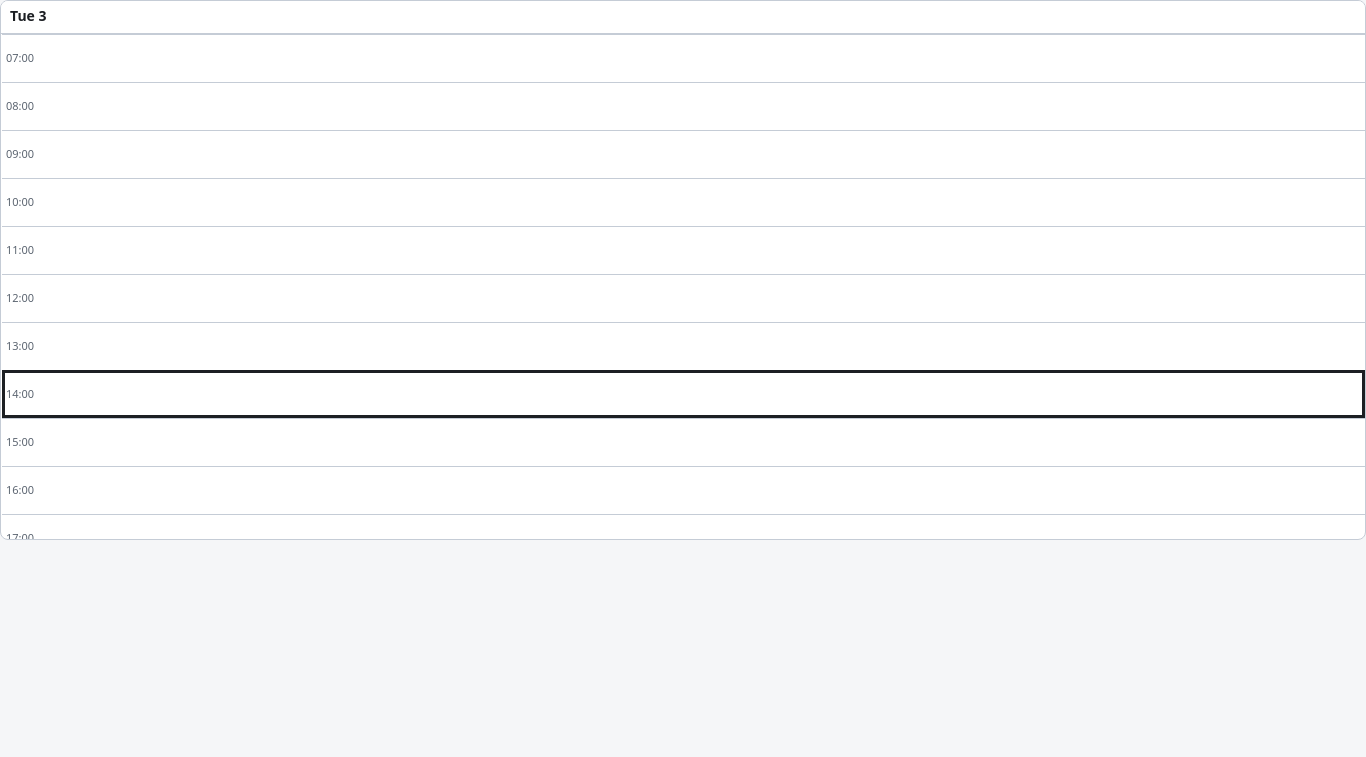
it: Calendar: making an event › closes the form on Cancel and puts focus back on the slot
(page scrolled)
Step 1. Click the button "14:00" → (20,394), box x1=2 y1=370 x2=1365 y2=418
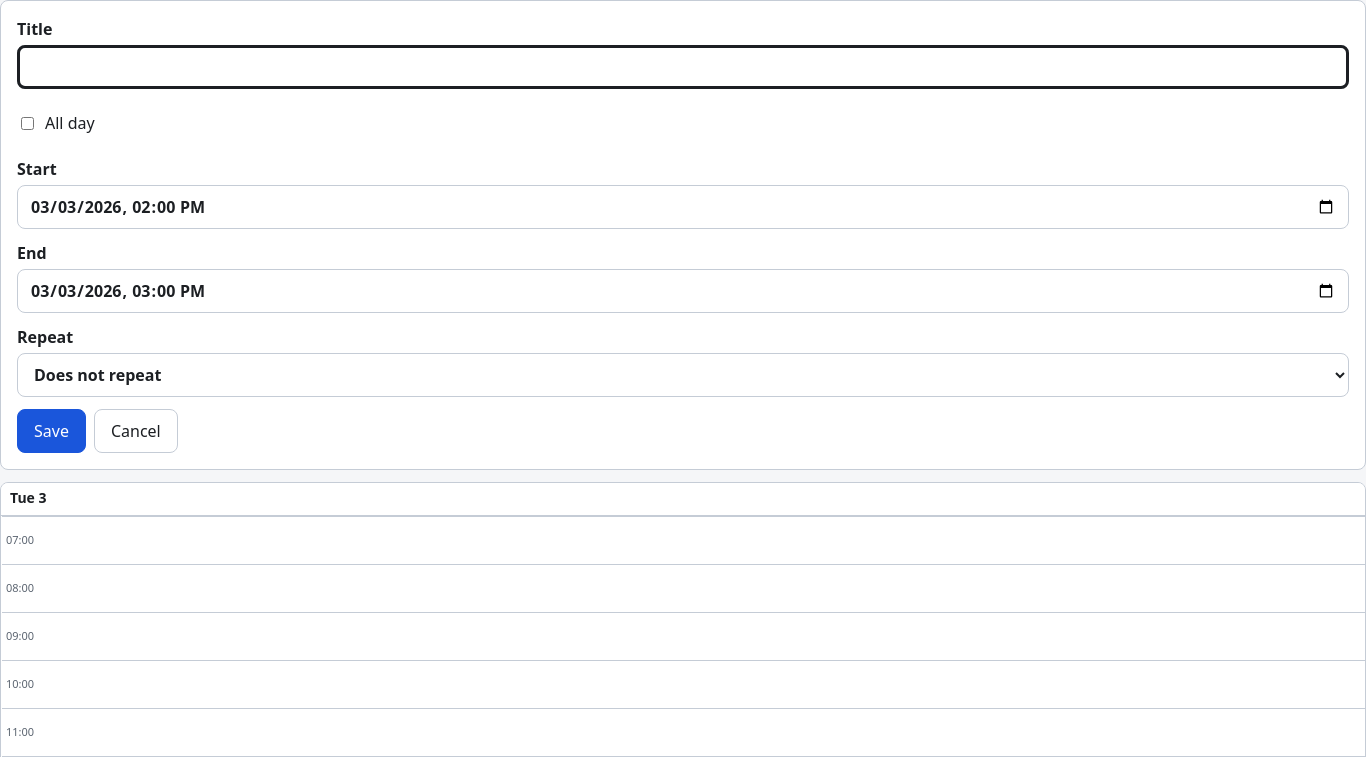
Step 2. Click the button "Cancel" → (136,431), box x1=94 y1=409 x2=178 y2=453
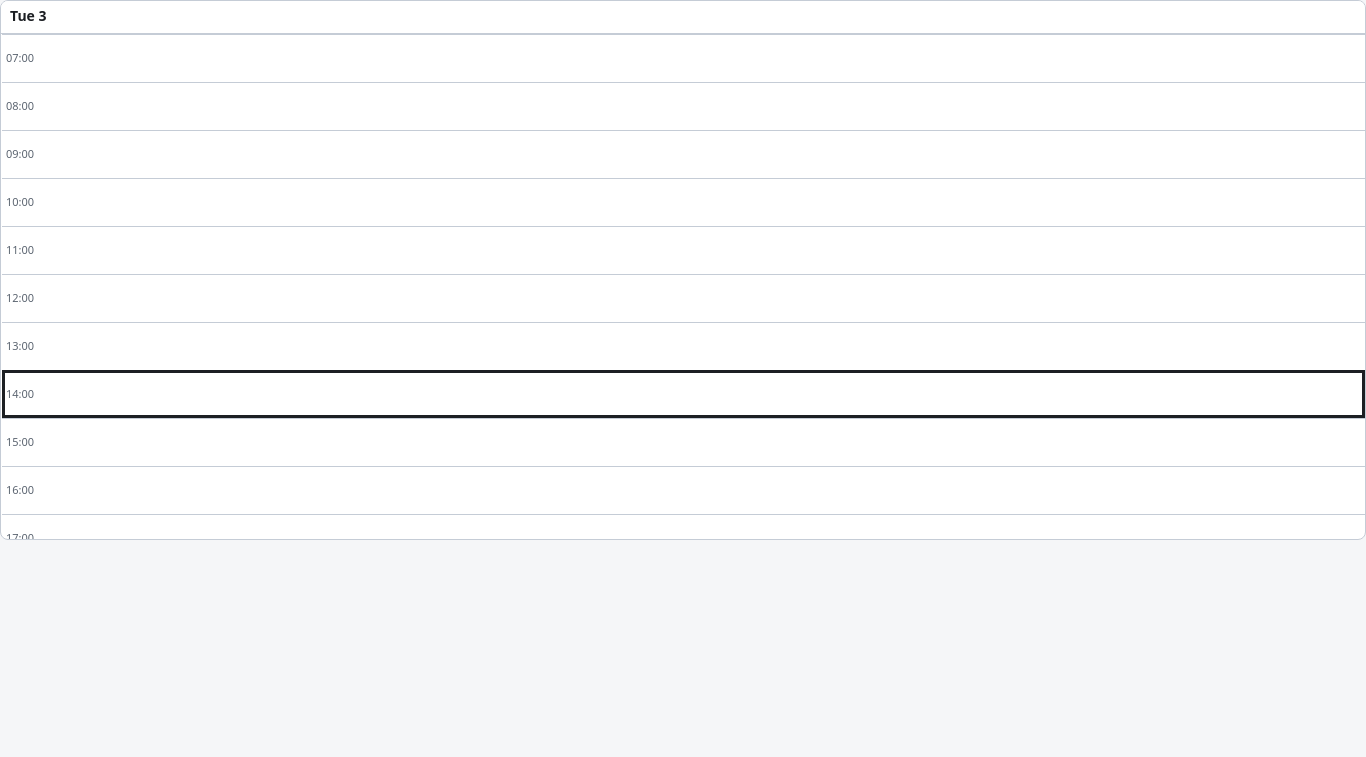
Check: the form is gone
